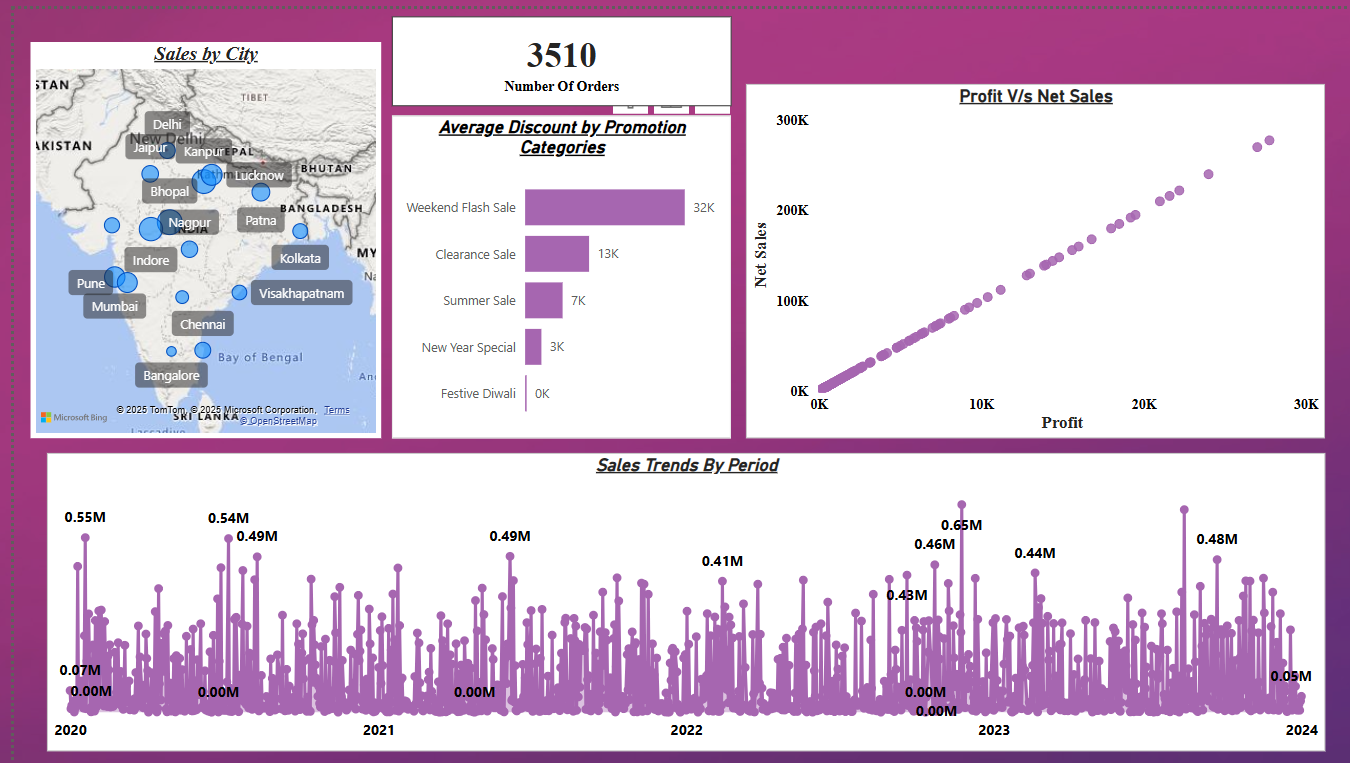

The dashboard page shown, as its layout file describes it:
{"tool":"powerbi","page":{"name":"Overview","canvas":[1280,720],"ordinal":0},"visuals":[{"type":"lineChart","title":"Sales Trends By Period","fields":{"Y":["Sum(Fact Table.Net Sales  )"],"Category":["Fact Table.Date (dd/mm/yyyy).Variation.Date Hierarchy.Year"]},"box":[31.4,422.9,1217.1,284.3],"z":0},{"type":"scatterChart","title":"Profit V/s Net Sales","fields":{"X":["Fact Table.Profit"],"Y":["Fact Table.Net Sales  "]},"box":[697.1,71.4,551.4,337.1],"z":1000},{"type":"barChart","title":"Average  Discount by Promotion Categories","fields":{"Y":["Avg(Fact Table.Discount)"],"Category":["Dim Promotion.Promotion Name"]},"box":[360,101.4,322.9,307.1],"z":2000},{"type":"map","title":"Sales by City","fields":{"Category":["Dim Customers.City"],"Size":["Sum(Fact Table.Net Sales  )"]},"box":[15.7,31.4,334.3,377.1],"z":3000},{"type":"card","title":"Count","fields":{"Values":["Count(Fact Table.Order ID)"]},"box":[360,7.8,323.3,85.6],"z":4000}]}

Visuals, with their boxes in screenshot pixels (x1, y1, x2, y2), scaled from the page's 1280x720 canvas onto the 1350x763 screenshot:
"Sales Trends By Period" lineChart: [x1=33, y1=448, x2=1317, y2=749]
"Profit V/s Net Sales" scatterChart: [x1=735, y1=76, x2=1317, y2=433]
"Average  Discount by Promotion Categories" barChart: [x1=380, y1=107, x2=720, y2=433]
"Sales by City" map: [x1=17, y1=33, x2=369, y2=433]
"Count" card: [x1=380, y1=8, x2=721, y2=99]
